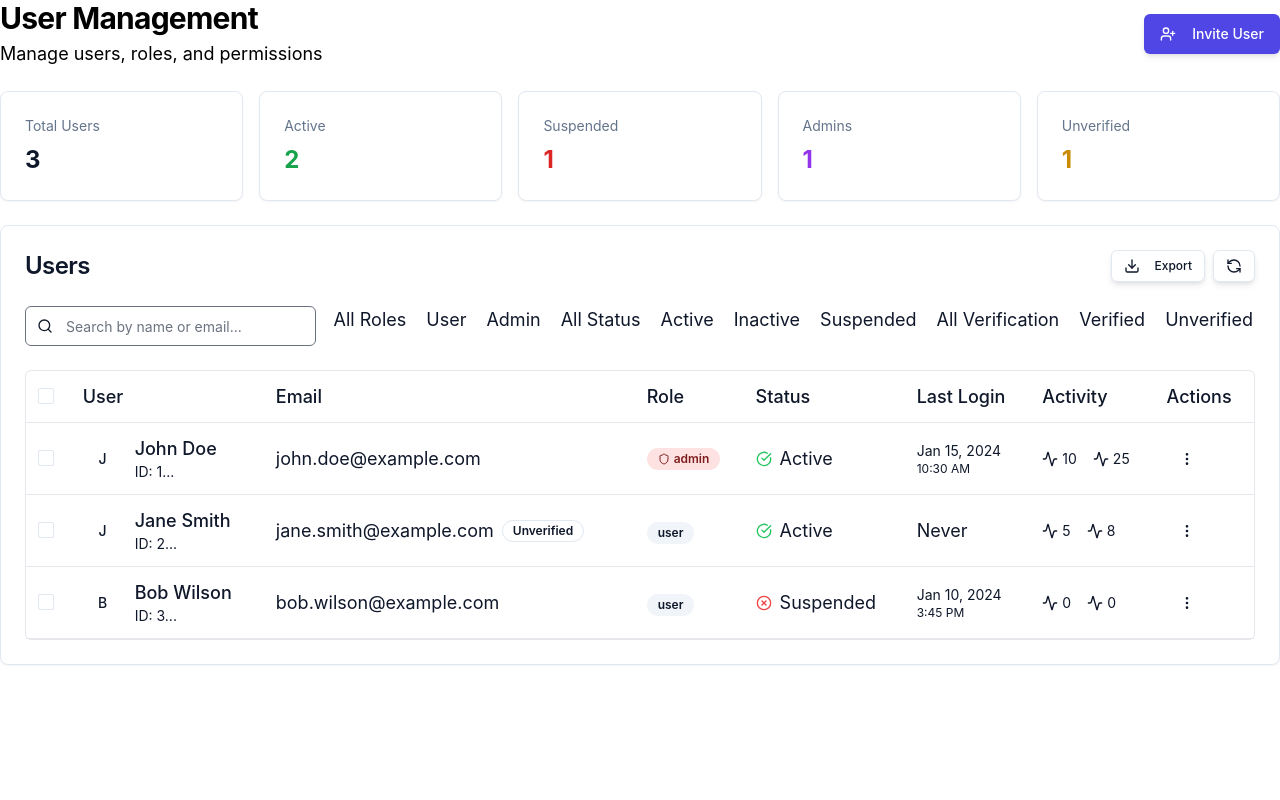
Test: UserListView › User Invitation › disables send button without email
Click the button "Invite User" at x=1212, y=34, box left=1144, top=14, right=1279, bottom=54
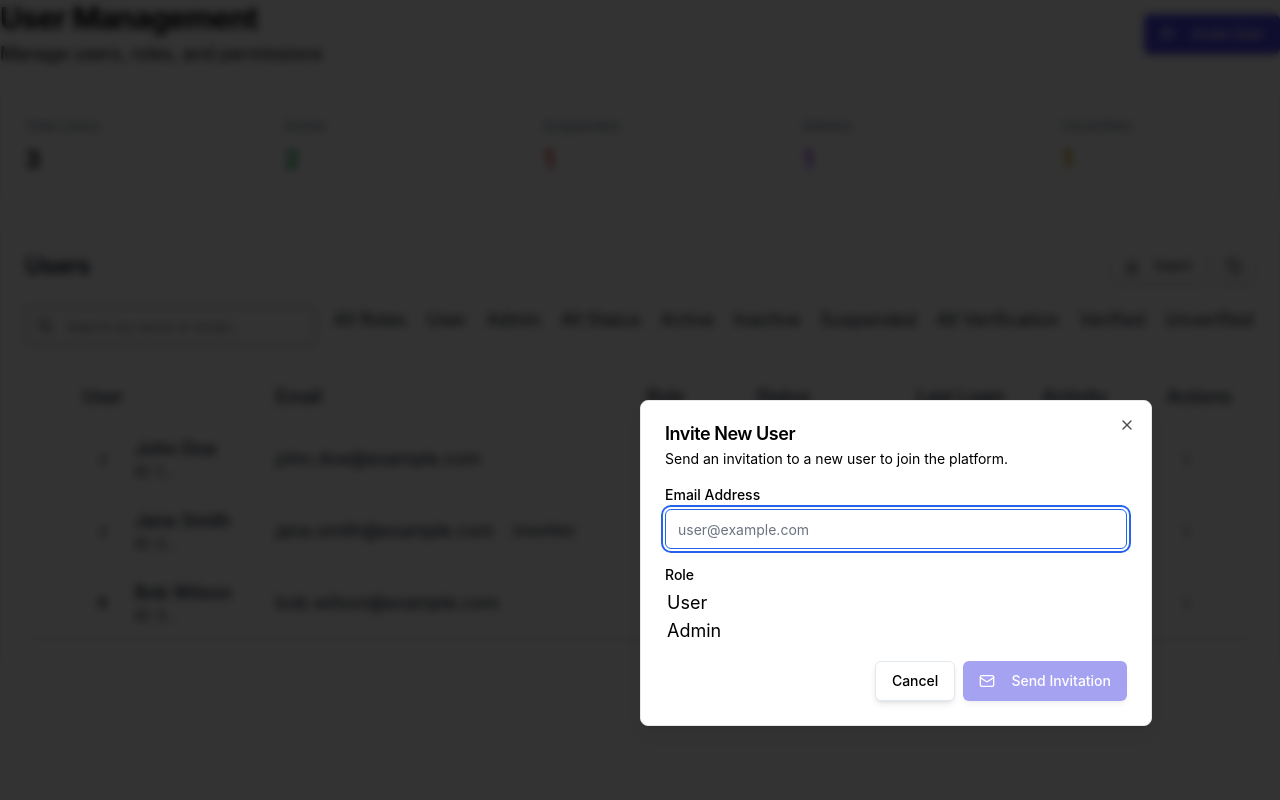
expect the button "Send Invitation" is disabled: met, box left=963, top=661, right=1127, bottom=701
